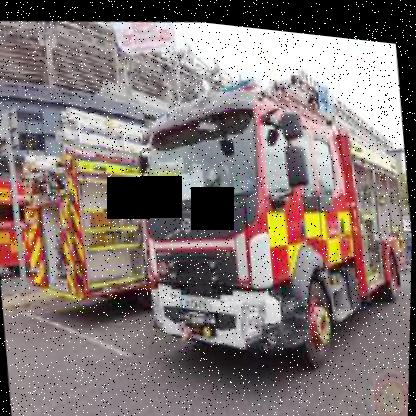emergency: (122, 31, 415, 384), (8, 85, 182, 326), (0, 153, 50, 283)
